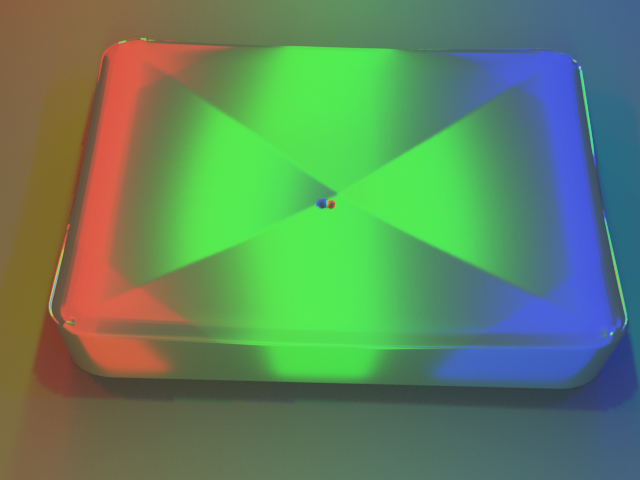dent: (303, 186, 345, 231)
smash: (0, 0, 639, 479)
